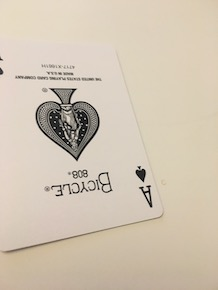AceOfSpades: (1, 29, 165, 255)
